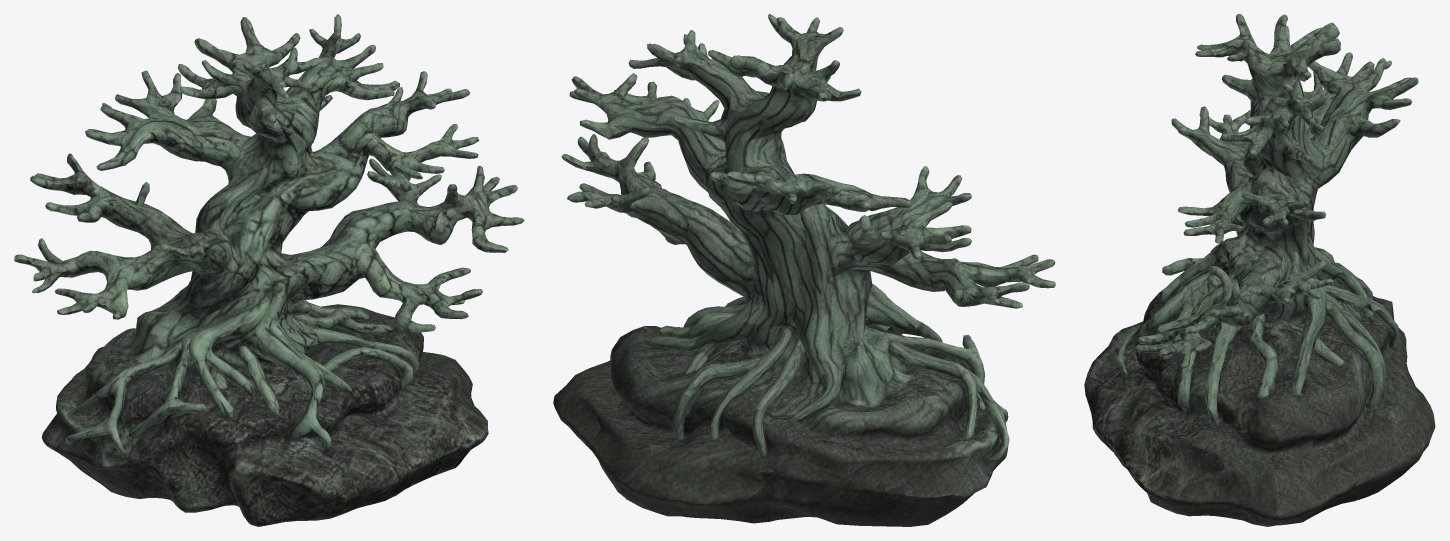
Rendered from bonsai.glb.
3 views of the same model, side by side, from view 1: azimuth 30°, elevation 25°; view 2: azimuth 150°, elevation 25°; view 3: azimuth 270°, elevation 25° (orthographic). The views are drawn at different scales.
Visible parts, largest first — view 1: mesh_node; view 2: mesh_node; view 3: mesh_node.
Part boxes in pixels (x1,y1,x2,y2): mesh_node: (14, 14, 524, 526); mesh_node: (553, 14, 1055, 526); mesh_node: (1084, 14, 1435, 526).
Bounding box in the file's own units: 1 × 0.8906 × 0.6816.
Materials: 1 (1 with a texture image).
